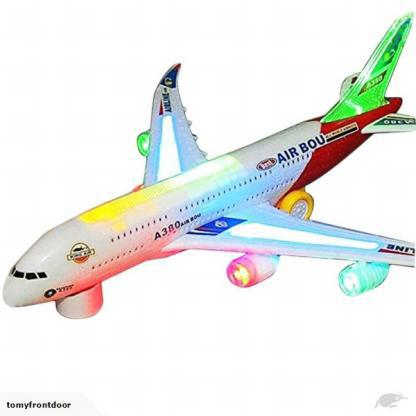CIV_Plane: (3, 7, 414, 322)
